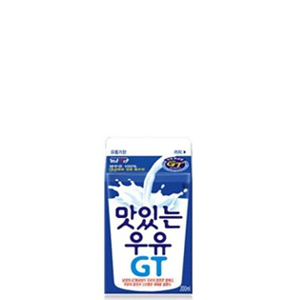milk: (105, 136, 192, 295)
